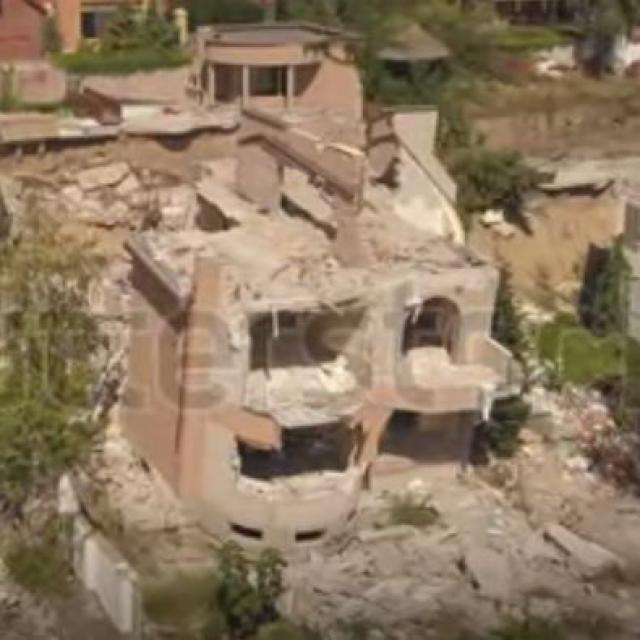collapsed_building: (130, 202, 498, 560)
